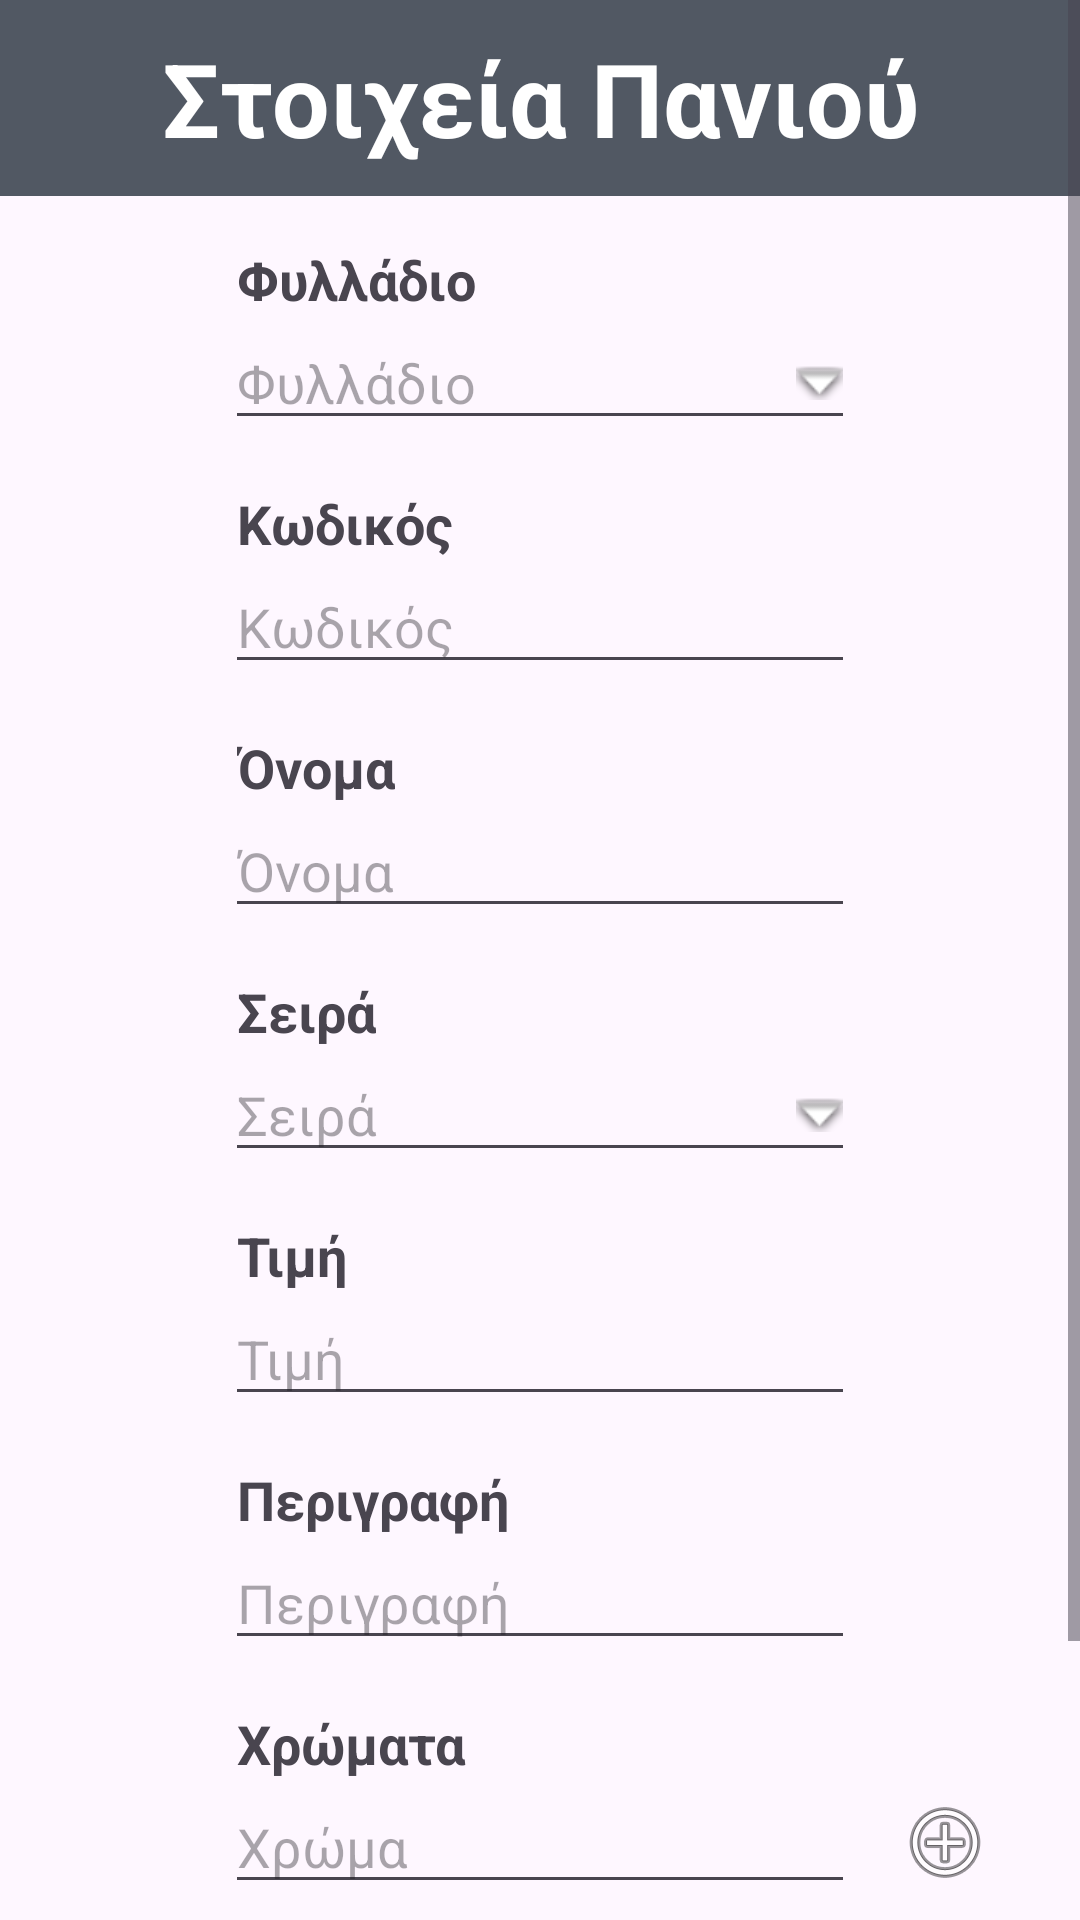

Icons on this 1080×1920 Android screen, each with the point to tap as (x,y):
add: (945,1842)
